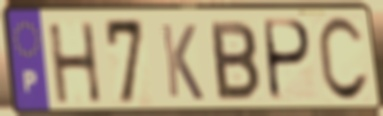7: (101, 16, 148, 110)
B: (208, 19, 263, 104)
C: (315, 14, 372, 106)
H: (45, 20, 105, 107)
K: (158, 21, 206, 103)
P: (263, 17, 315, 105)
